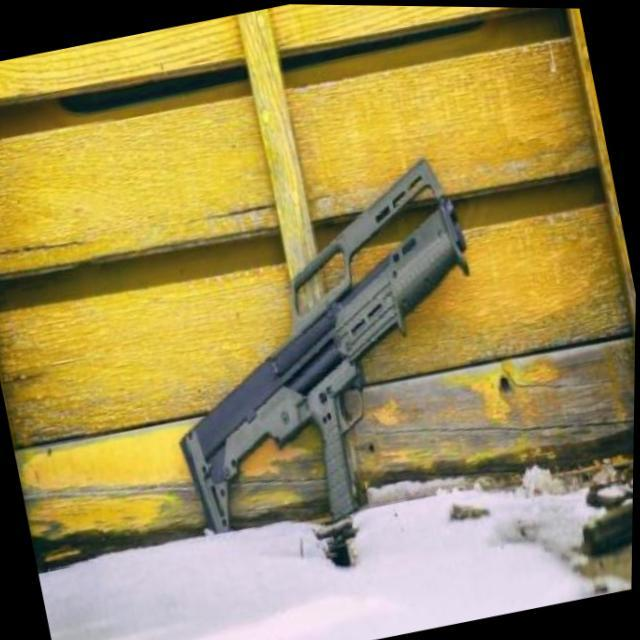weapon: (128, 144, 521, 556)
